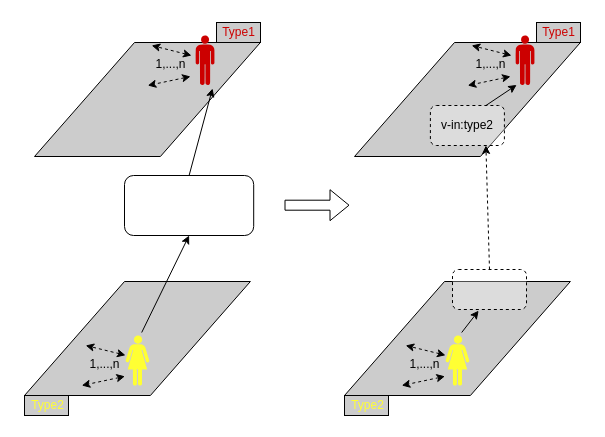
This 605x437 diagram has some shape labels left out. The box of each missing label's shape, as (x1, y1, x2, y2) in pixels:
v-out:type1: (452, 268, 526, 310)
Virtual(type2 -> type1): (124, 174, 254, 236)
